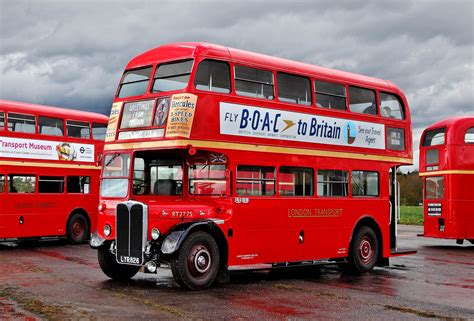bus: (96, 52, 417, 278)
